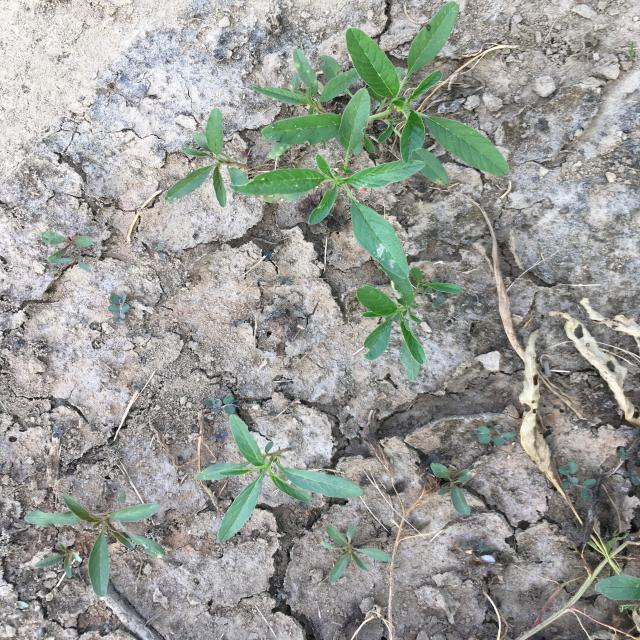Waterhemp: (252, 1, 510, 186), (228, 88, 426, 279), (194, 414, 363, 542), (24, 492, 165, 598), (356, 263, 461, 382), (164, 108, 253, 207), (321, 524, 394, 583), (431, 462, 474, 515), (39, 231, 93, 273), (34, 542, 82, 578)
